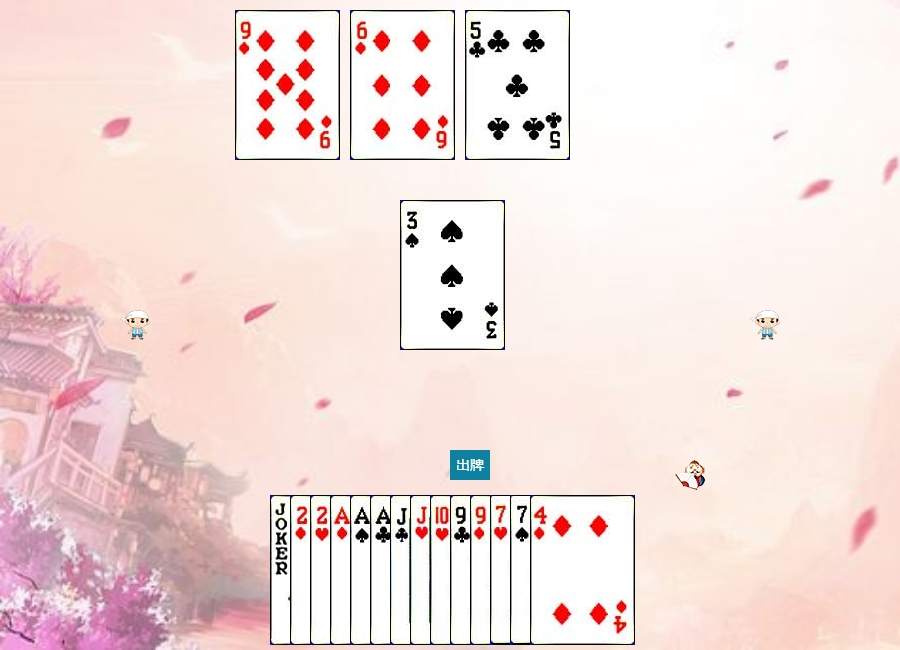10~3: (430, 495, 535, 645)
11~2: (390, 495, 495, 645)
11~3: (410, 495, 515, 645)
14~1: (330, 495, 435, 645)
14~2: (370, 495, 475, 645)
14~4: (350, 495, 455, 645)
15~1: (290, 495, 395, 645)
15~3: (310, 495, 415, 645)
17~3: (270, 495, 375, 645)
3~4: (400, 200, 505, 350)
4~1: (530, 495, 635, 645)
5~2: (465, 10, 570, 160)
6~1: (350, 10, 455, 160)
7~3: (490, 495, 595, 645)
7~4: (510, 495, 615, 645)
9~1: (235, 10, 340, 160), (470, 495, 575, 645)
9~2: (450, 495, 555, 645)
